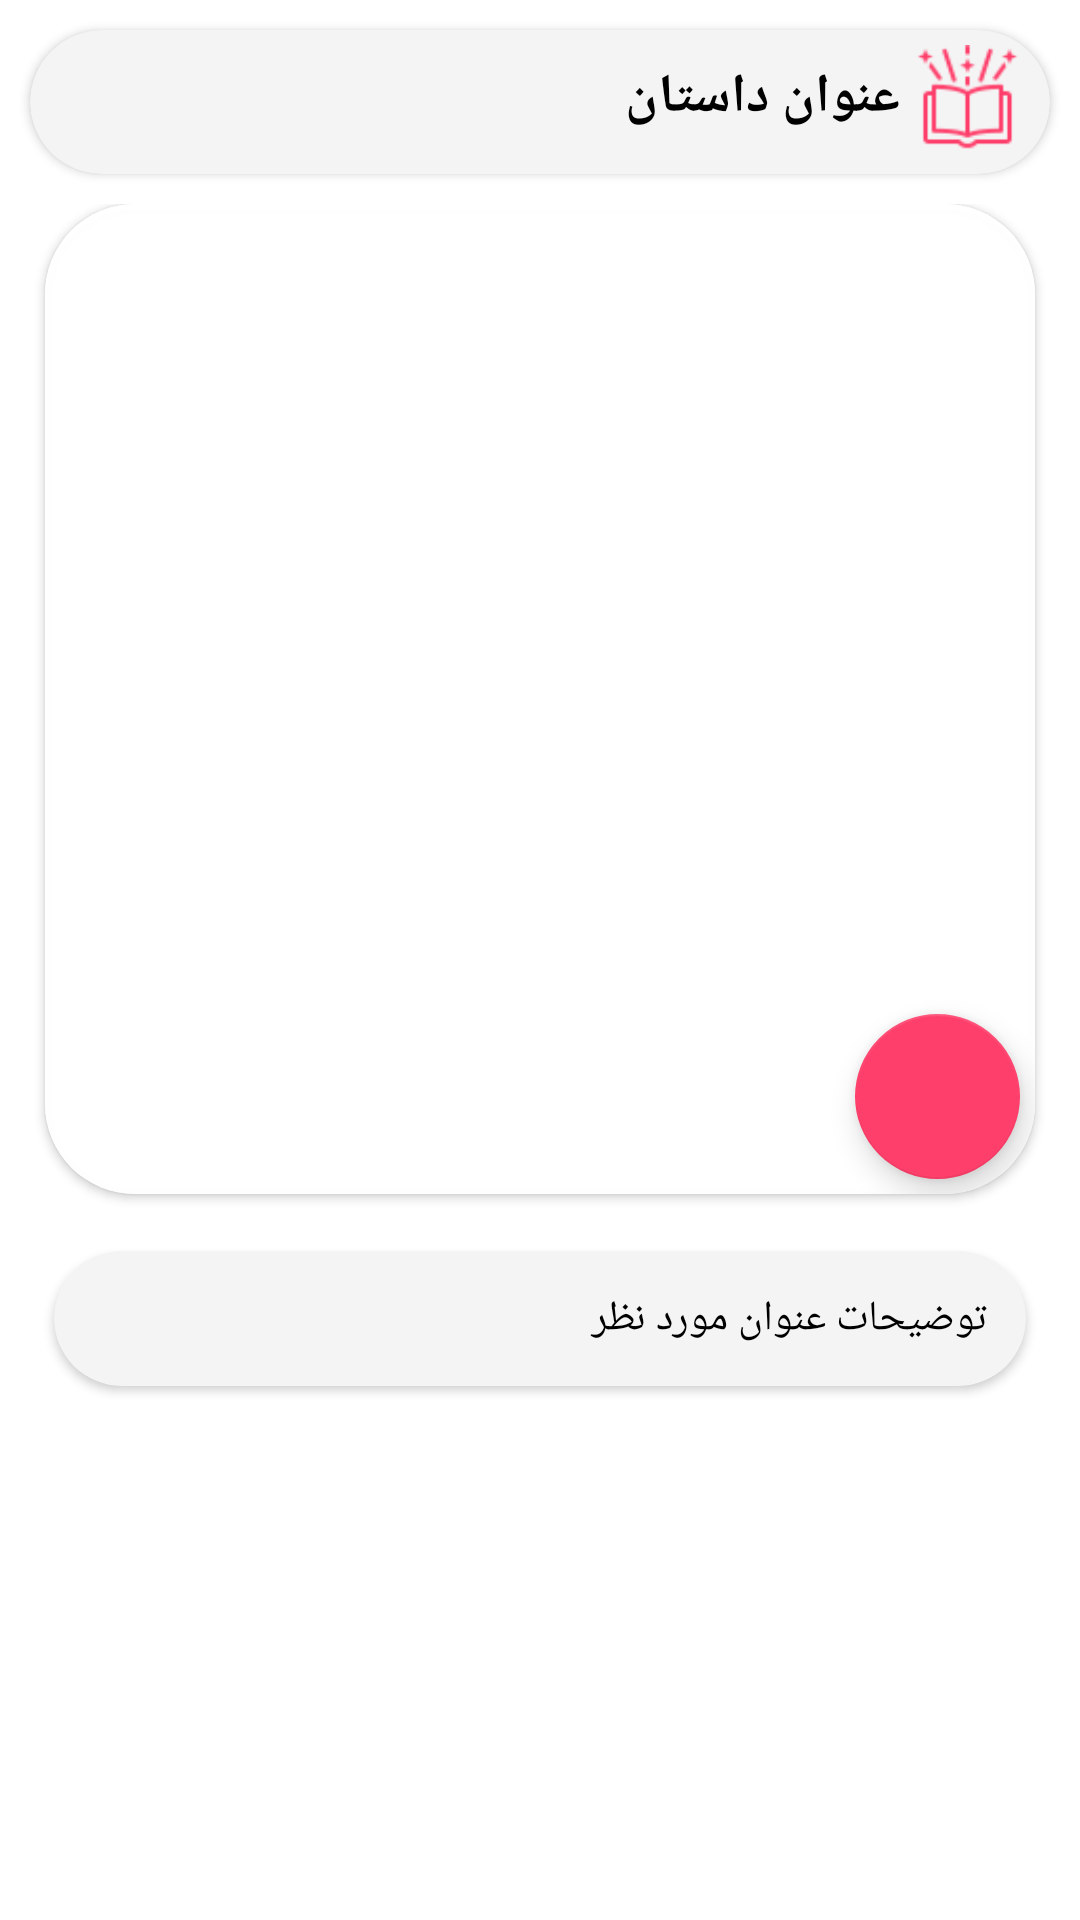

Screen size 1080 × 1920. Icon name, then its box in pixels as detection(x1, y1, x2, y2):
story: detection(918, 45, 1017, 149)
